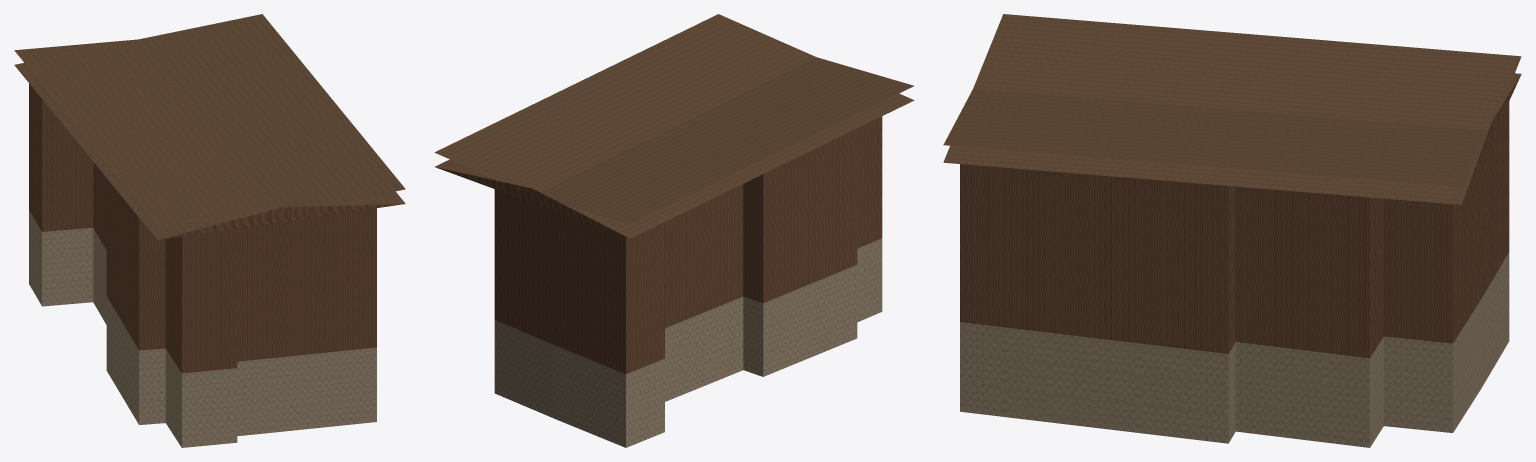
Rendered from bld_c9_39_507.gltf.
3 renders of one model, left to right at view 1: azimuth 30°, elevation 25°; view 2: azimuth 150°, elevation 25°; view 3: azimuth 270°, elevation 25°, orthographic. The views are drawn at different scales.
Parts seen in each view (by area): view 1: bld_c9_39_507; view 2: bld_c9_39_507; view 3: bld_c9_39_507.
Boxes of the visible parts, box(x1,y1,x2,y2) form: bld_c9_39_507: box(14, 14, 405, 447); bld_c9_39_507: box(434, 14, 914, 447); bld_c9_39_507: box(943, 14, 1521, 447).
Bounding box in the file's own units: 21.17 × 15.9 × 29.83.
Materials: 4 (4 with a texture image).
